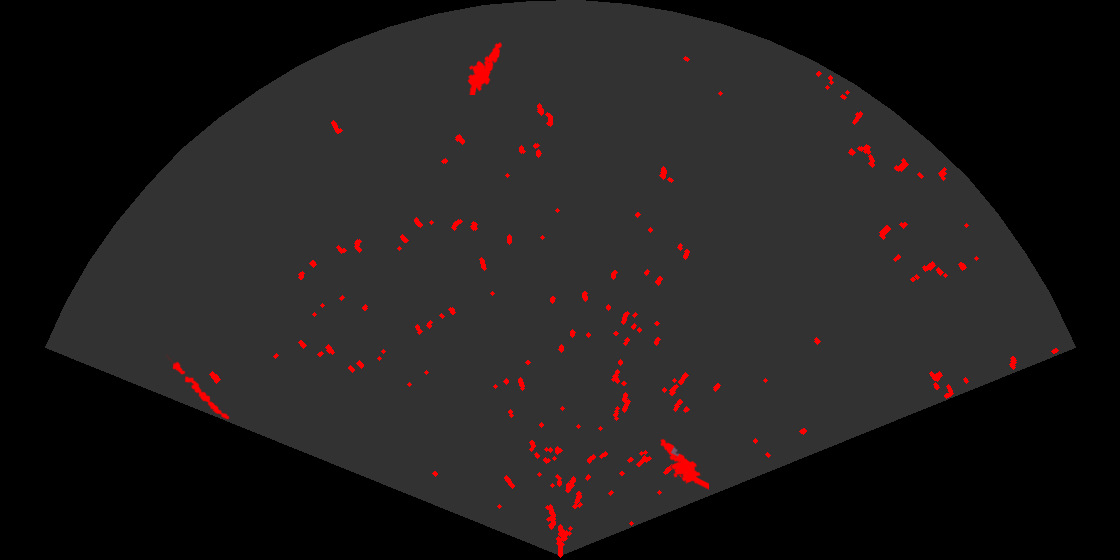chain: (164, 355, 231, 421)
frogman: (658, 437, 709, 491), (466, 40, 503, 95)
